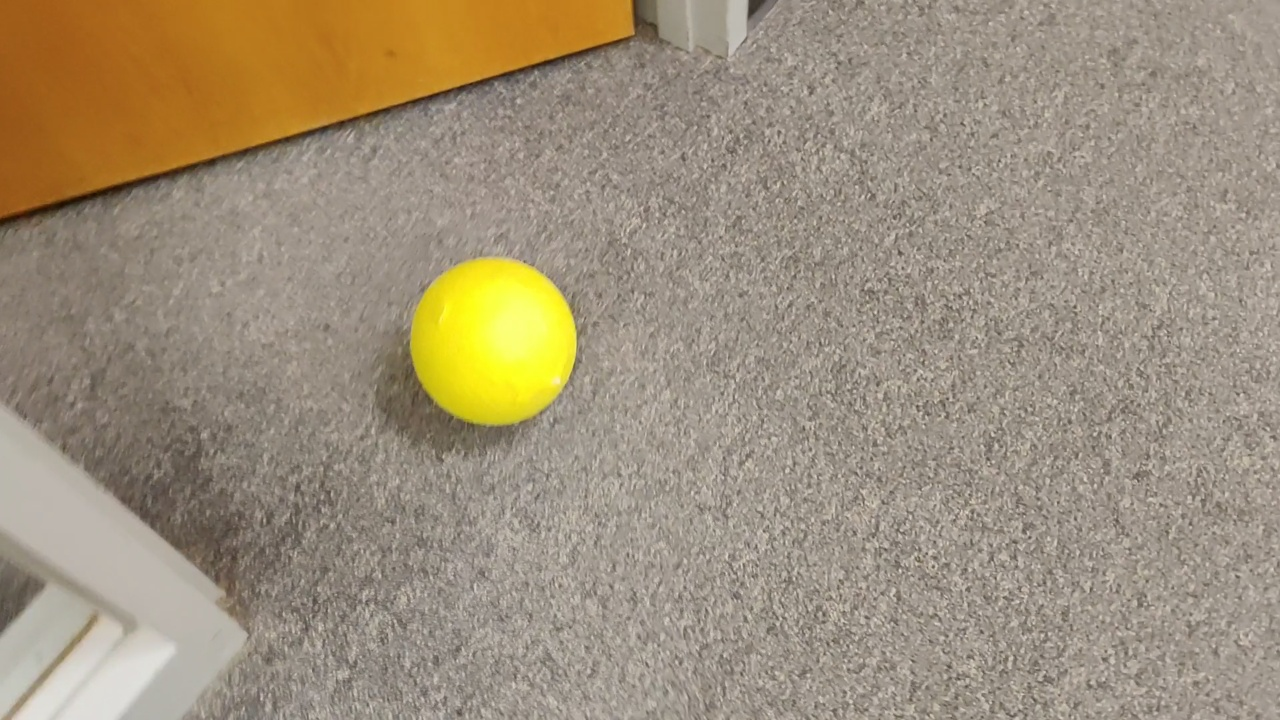Ball: (401, 251, 590, 433)
